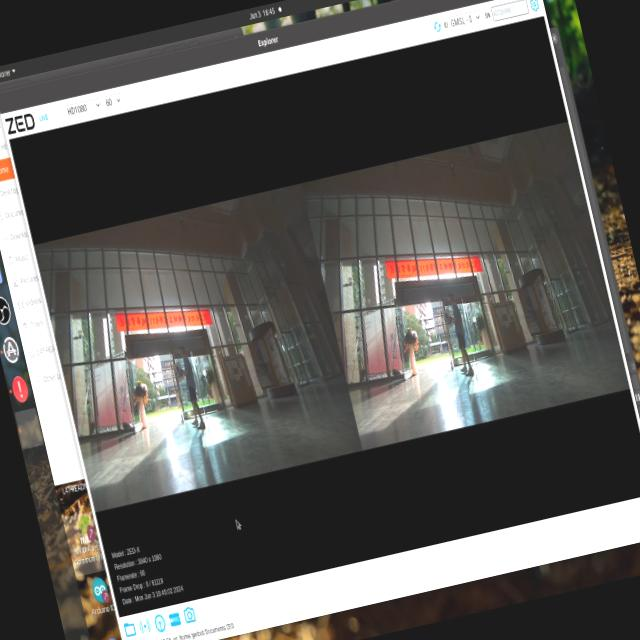blue: (438, 308, 454, 328), (172, 361, 184, 378)
